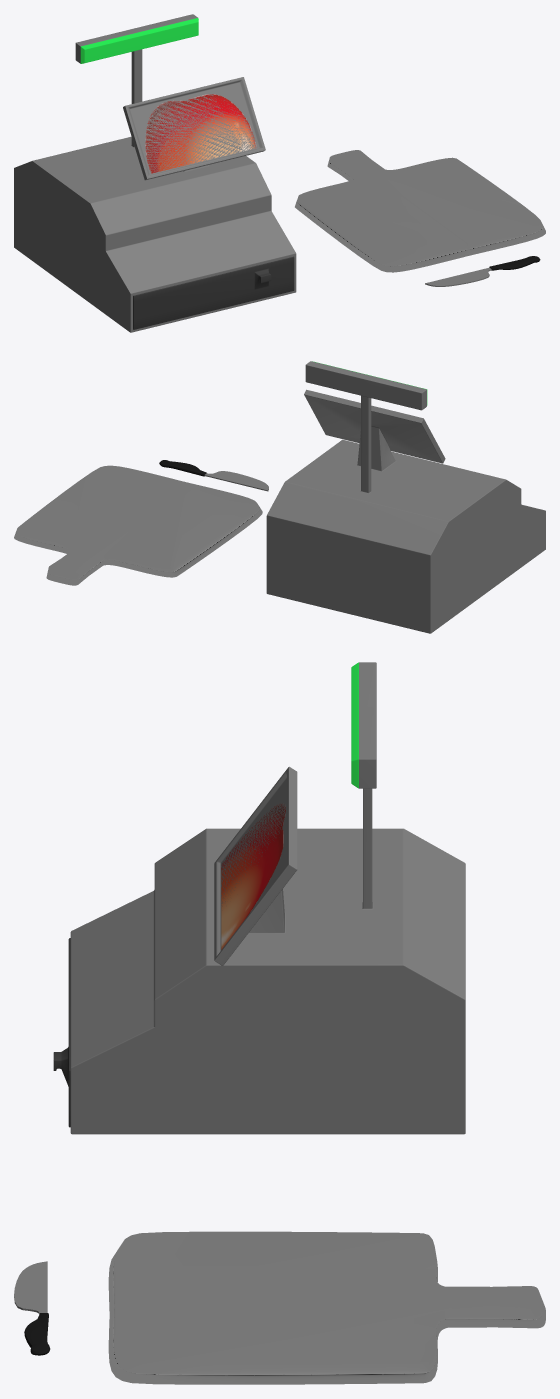
File: assets.fbx
3 views of the same model, one above another, from view 1: azimuth 30°, elevation 25°; view 2: azimuth 150°, elevation 25°; view 3: azimuth 270°, elevation 25° (orthographic). The views are drawn at different scales.
Parts seen in each view (by area): view 1: cashier machine, board, Object001, money, knife; view 2: cashier machine, board, knife; view 3: cashier machine, board, Object001, knife, money.
Boxes of the visible parts, x1=… form: cashier machine: x1=14, y1=14, x2=296, y2=332; board: x1=295, y1=150, x2=545, y2=272; Object001: x1=145, y1=94, x2=256, y2=173; money: x1=133, y1=256, x2=294, y2=329; knife: x1=425, y1=256, x2=540, y2=286; cashier machine: x1=266, y1=361, x2=545, y2=633; board: x1=14, y1=465, x2=262, y2=585; knife: x1=159, y1=460, x2=268, y2=491; cashier machine: x1=70, y1=662, x2=465, y2=1134; board: x1=108, y1=1231, x2=545, y2=1384; Object001: x1=221, y1=803, x2=285, y2=949; knife: x1=14, y1=1261, x2=50, y2=1355; money: x1=53, y1=938, x2=70, y2=1127.
Bounding box in the file's own units: 504 × 257 × 315.
